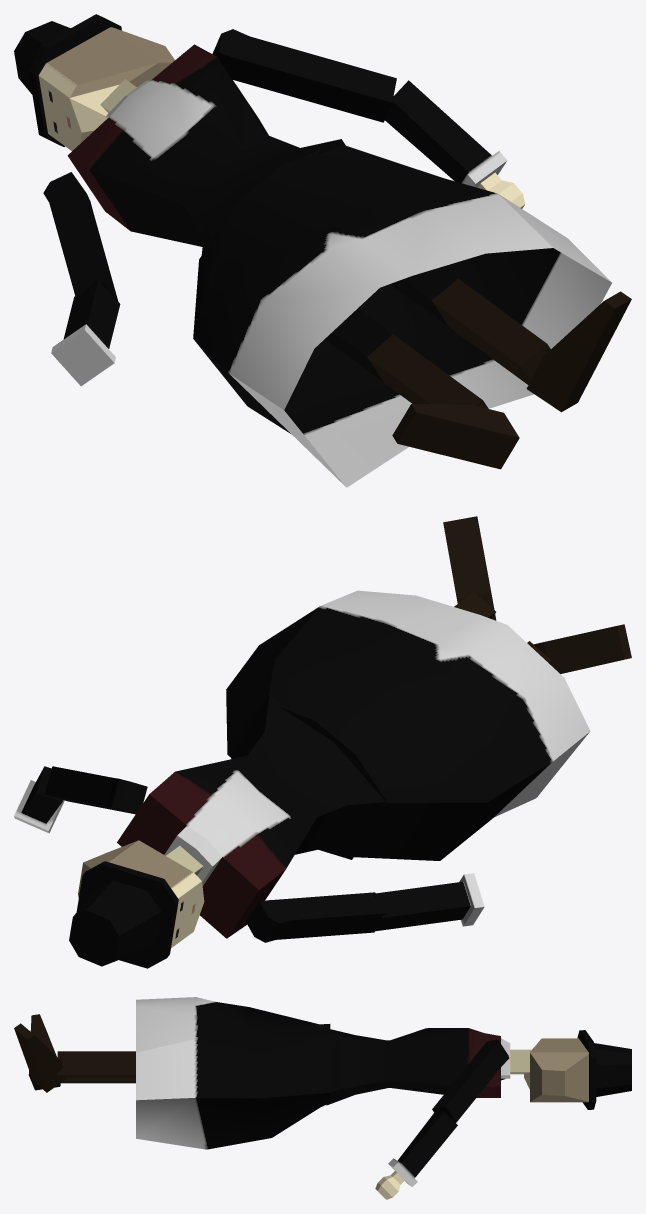
The model's file is black_dead.fbx.
The picture shows the model from 3 angles, top to bottom: view 1: azimuth 30°, elevation 25°; view 2: azimuth 150°, elevation 25°; view 3: azimuth 270°, elevation 25°; orthographic projection. The views are drawn at different scales.
Visible parts, largest first — view 1: skirt, MsBlack, foot (×2), fore_arm (×2), lower_leg (×2), head, LEFT_arm, RIGHT_arm, hat, RIGHT_leg, LEFT_leg, hand; view 2: skirt, MsBlack, hat, foot (×2), fore_arm (×2), RIGHT_arm, head, LEFT_arm; view 3: skirt, MsBlack, head, lower_leg (×2), LEFT_arm, hat, foot (×2), fore_arm, neck, hand.
Part boxes in pixels (x1=…): skirt: x1=193, y1=145, x2=611, y2=487; MsBlack: x1=67, y1=44, x2=345, y2=254; foot (×2): x1=392, y1=291, x2=631, y2=469; fore_arm (×2): x1=51, y1=80, x2=507, y2=386; lower_leg (×2): x1=367, y1=278, x2=550, y2=408; head: x1=38, y1=27, x2=174, y2=150; LEFT_arm: x1=212, y1=29, x2=396, y2=122; RIGHT_arm: x1=43, y1=172, x2=118, y2=301; hat: x1=14, y1=14, x2=121, y2=146; RIGHT_leg: x1=324, y1=308, x2=392, y2=383; LEFT_leg: x1=390, y1=267, x2=457, y2=326; hand: x1=477, y1=172, x2=525, y2=208; skirt: x1=226, y1=590, x2=590, y2=860; MsBlack: x1=117, y1=695, x2=385, y2=938; hat: x1=69, y1=861, x2=178, y2=968; foot (×2): x1=443, y1=516, x2=631, y2=673; fore_arm (×2): x1=14, y1=766, x2=484, y2=931; RIGHT_arm: x1=245, y1=892, x2=387, y2=942; head: x1=78, y1=840, x2=204, y2=947; LEFT_arm: x1=45, y1=766, x2=147, y2=814; skirt: x1=136, y1=997, x2=330, y2=1149; MsBlack: x1=326, y1=1028, x2=510, y2=1105; head: x1=524, y1=1038, x2=588, y2=1102; lower_leg (×2): x1=57, y1=1051, x2=135, y2=1083; LEFT_arm: x1=432, y1=1039, x2=509, y2=1122; hat: x1=577, y1=1030, x2=631, y2=1109; foot (×2): x1=14, y1=1014, x2=67, y2=1092; fore_arm: x1=388, y1=1110, x2=457, y2=1186; neck: x1=510, y1=1049, x2=531, y2=1074; hand: x1=375, y1=1171, x2=404, y2=1199.
Bounding box in the file's own units: 1.36 × 0.5643 × 2.4.
